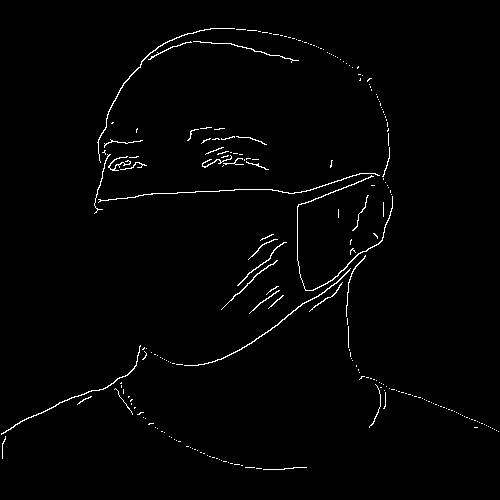mask: (85, 194, 321, 369)
